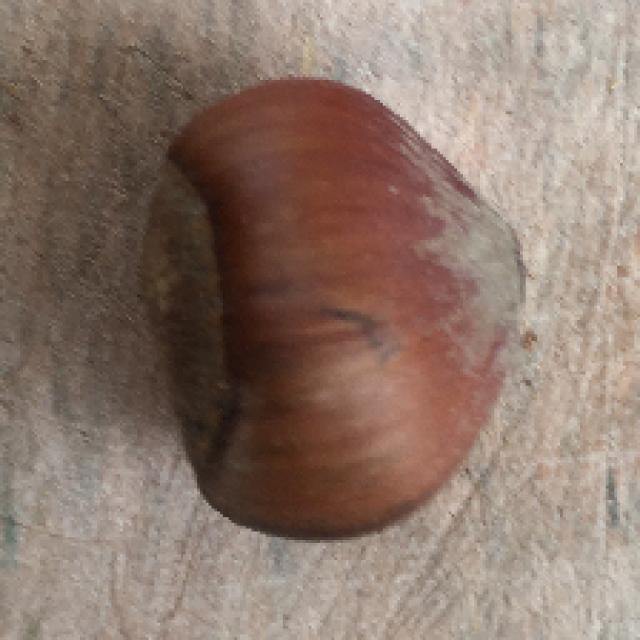damagedHazelnut: (133, 74, 529, 543)
